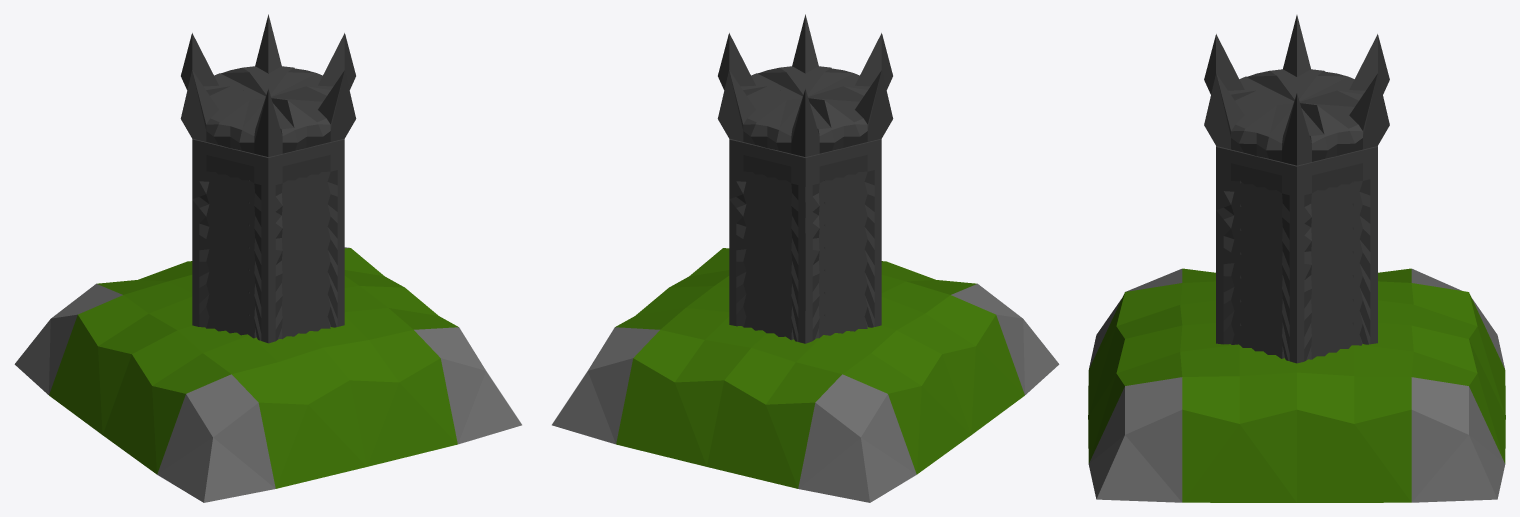
File: Castle_ingame.fbx
3 renders of one model, left to right at view 1: azimuth 30°, elevation 25°; view 2: azimuth 150°, elevation 25°; view 3: azimuth 270°, elevation 25°, orthographic. The views are drawn at different scales.
Parts seen in each view (by area): view 1: Ground, Castle; view 2: Ground, Castle; view 3: Ground, Castle.
Boxes of the visible parts, x1=… form: Ground: x1=14, y1=247, x2=521, y2=502; Castle: x1=180, y1=14, x2=356, y2=343; Ground: x1=552, y1=248, x2=1059, y2=502; Castle: x1=717, y1=14, x2=893, y2=343; Ground: x1=1088, y1=268, x2=1505, y2=502; Castle: x1=1204, y1=15, x2=1389, y2=363.
Size of the model in its own units: 1506 by 1490 by 1550.
